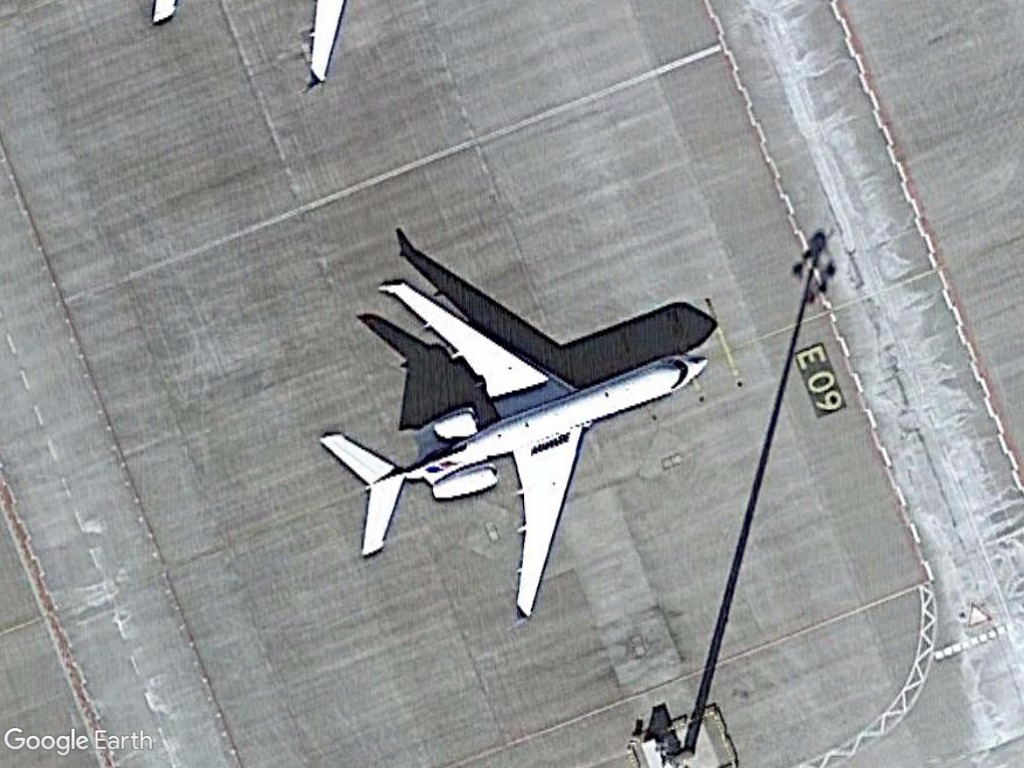chartered: (317, 273, 714, 629)
